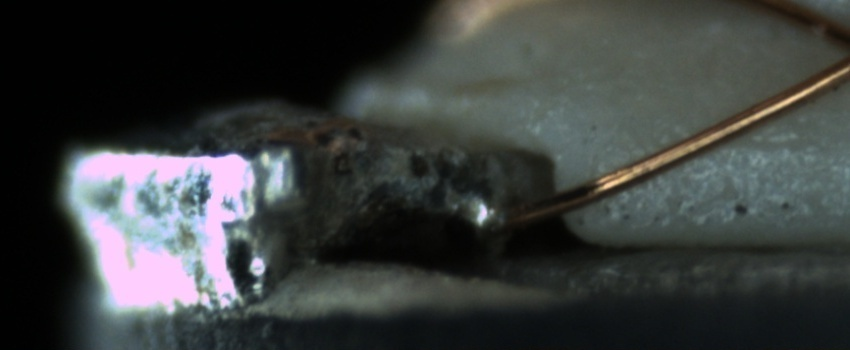CL: (810, 8, 850, 90)
DL: (689, 116, 847, 173)
